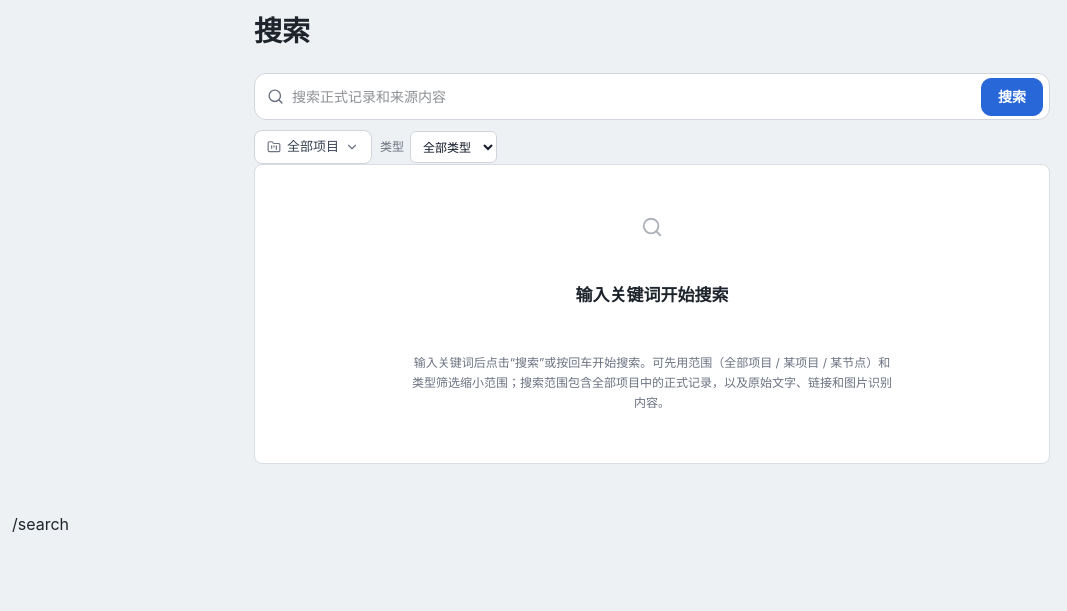
Test: SearchPage › does not search while typing and searches on submit
The width and height of the screenshot is (1067, 611).
Type "冰箱" into the field named "搜索关键词".
click(632, 96); type("冰箱")  # box [292,74,973,119]
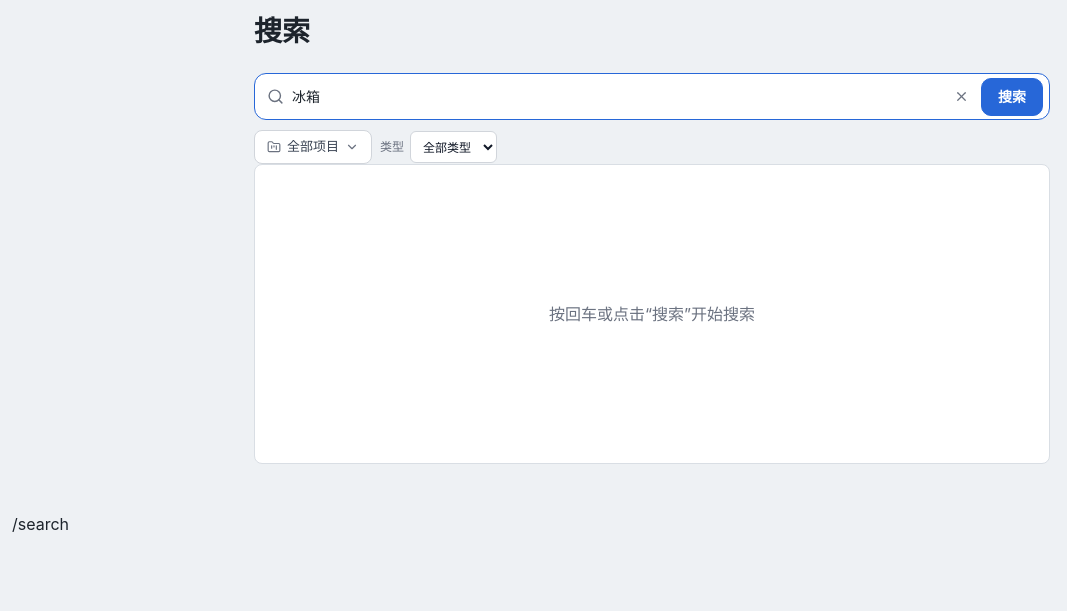
Click the button "搜索".
click(1012, 96)  # box [981,78,1043,116]
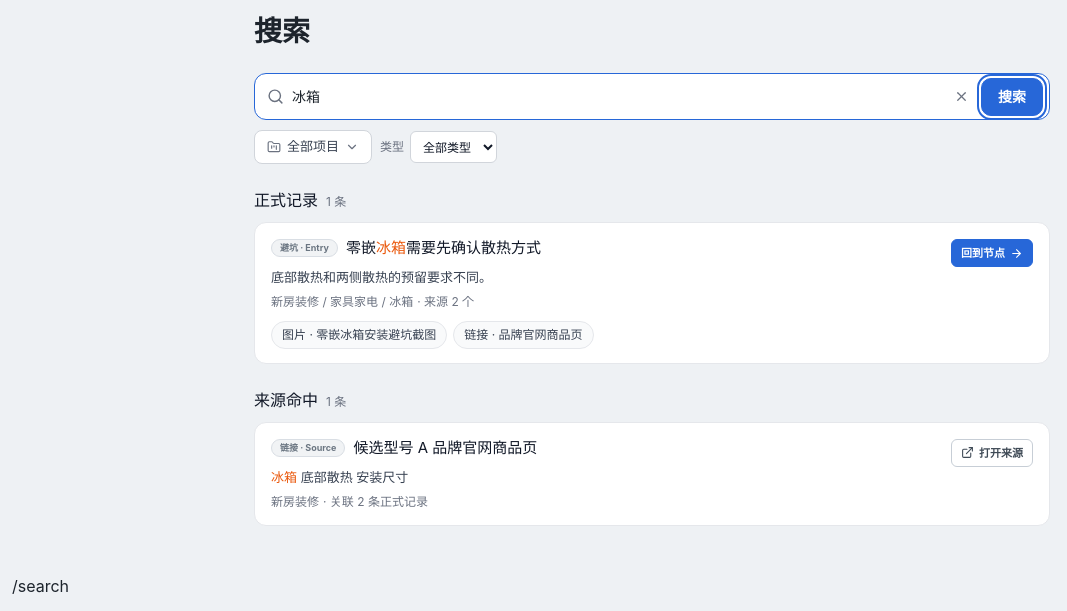
Result: the heading "零嵌冰箱需要先确认散热方式" is shown at [346,237,541,259]
